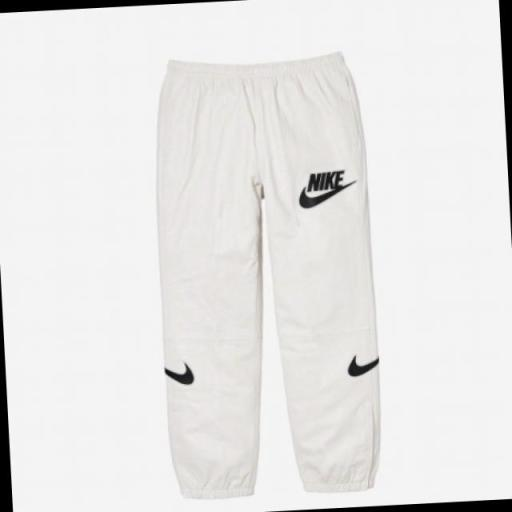Nike: (298, 182, 357, 208), (307, 172, 344, 190)
